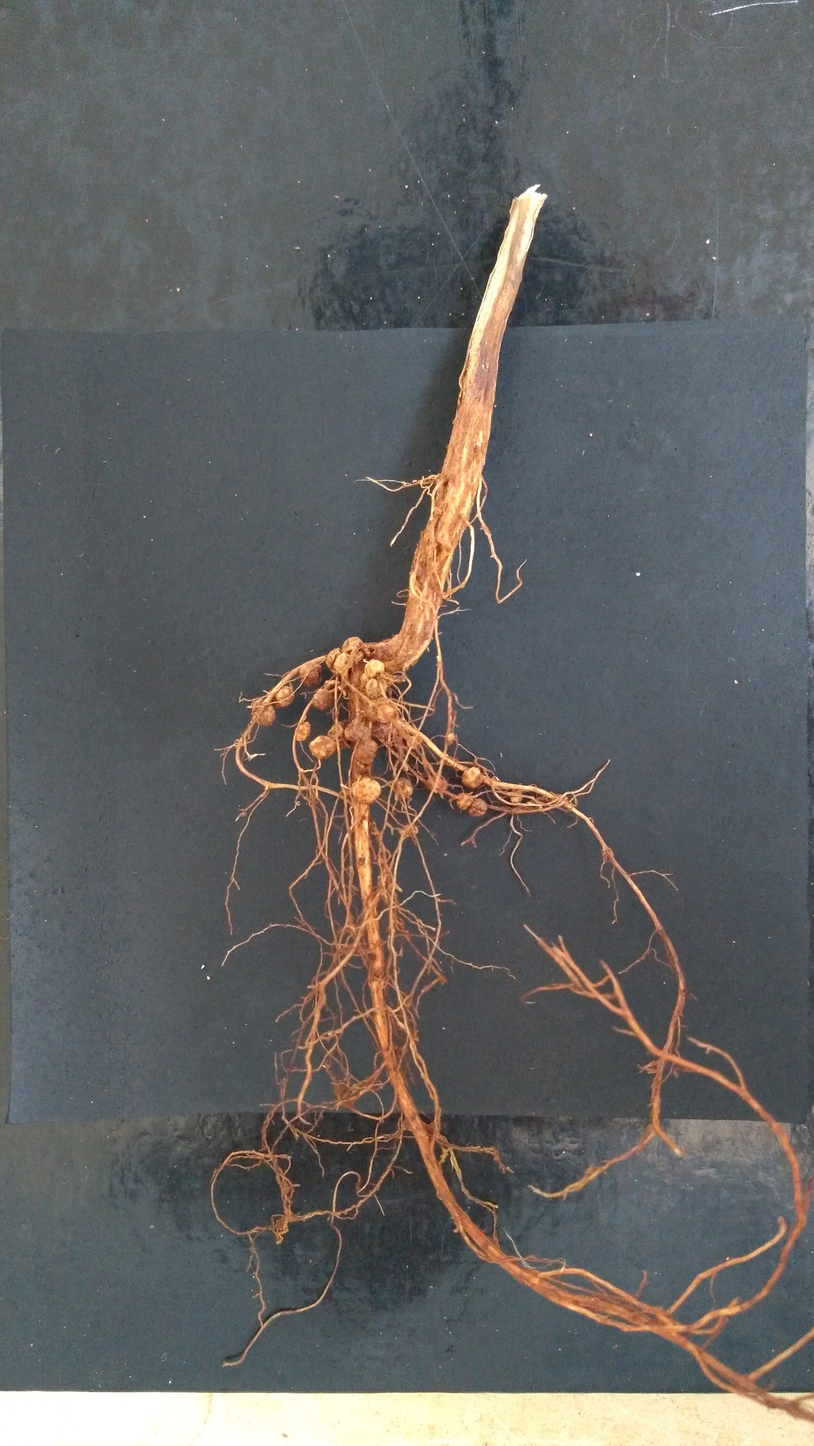nodule: (351, 739, 380, 775), (250, 695, 277, 728), (355, 775, 383, 805), (343, 716, 374, 743), (308, 733, 337, 761), (364, 701, 397, 725), (326, 721, 351, 752), (297, 660, 323, 688), (270, 684, 296, 710), (311, 687, 336, 714), (363, 676, 390, 701), (332, 652, 352, 681), (394, 775, 415, 802), (363, 657, 387, 680), (461, 765, 484, 789), (424, 773, 449, 795), (324, 646, 339, 677), (454, 790, 475, 812), (341, 634, 365, 653), (468, 797, 488, 818), (294, 721, 312, 743), (371, 722, 390, 740), (509, 787, 525, 805), (350, 649, 365, 664), (406, 735, 419, 751), (404, 825, 419, 836), (445, 731, 455, 746)
